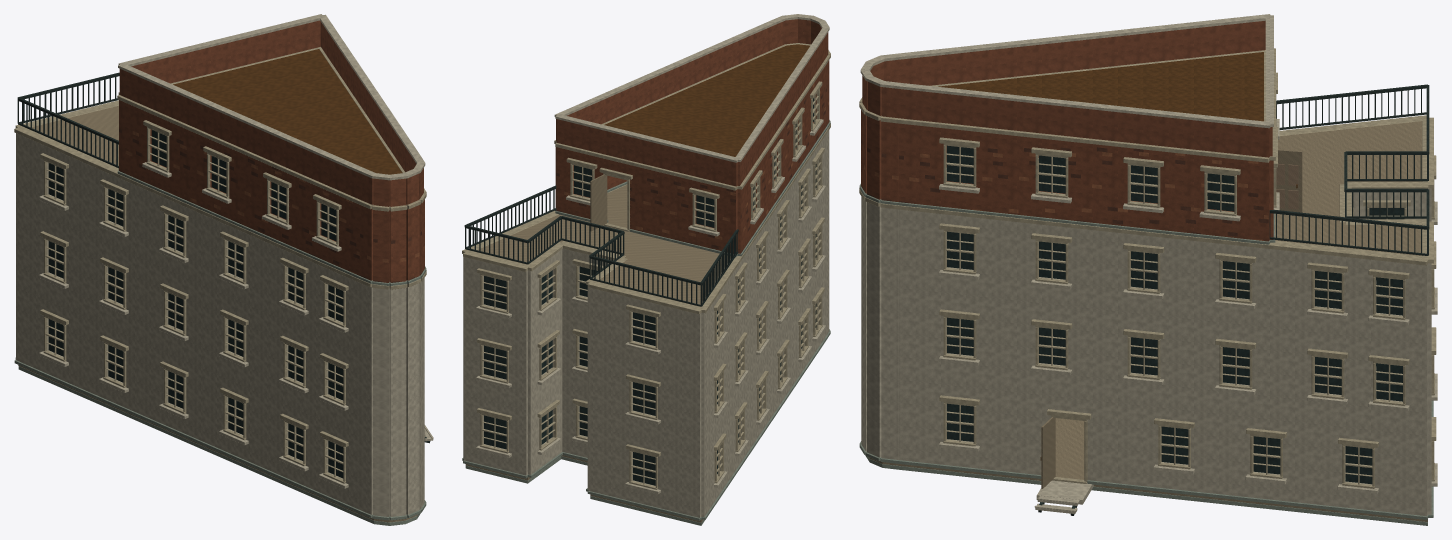
The picture shows the model from 3 angles, left to right: view 1: azimuth 30°, elevation 25°; view 2: azimuth 150°, elevation 25°; view 3: azimuth 270°, elevation 25°; orthographic projection. The views are drawn at different scales.
Parts seen in each view (by area): view 1: A010-17_01_Wall_Shell, A010-17_02_Masonry_Facing, A010-17_04_Architectural_Trim, A010-17_14_Parapets, A010-17_03_Window_Door_Frames, A010-17_11_Roof_Rounded_Wedge_Flat, A010-17_06_Glazing, A010-17_14_Parapet_Caps, A010-17_09_Railings, A010-17_11_Roof_Broad_End_Terrace, A010-17_00_Foundation, A010-17_07_Floors; view 2: A010-17_01_Wall_Shell, A010-17_04_Architectural_Trim, A010-17_03_Window_Door_Frames, A010-17_14_Parapets, A010-17_02_Masonry_Facing, A010-17_11_Roof_Rounded_Wedge_Flat, A010-17_11_Roof_Broad_End_Terrace, A010-17_09_Railings, A010-17_06_Glazing, A010-17_14_Parapet_Caps, A010-17_07_Floors, A010-17_00_Foundation (+1 smaller); view 3: A010-17_01_Wall_Shell, A010-17_04_Architectural_Trim, A010-17_02_Masonry_Facing, A010-17_14_Parapets, A010-17_06_Glazing, A010-17_03_Window_Door_Frames, A010-17_11_Roof_Rounded_Wedge_Flat, A010-17_11_Roof_Broad_End_Terrace, A010-17_09_Railings, A010-17_14_Parapet_Caps, A010-17_07_Floors, A010-17_00_Foundation (+2 smaller).
Boxes of the visible parts, bbox=[...] form: A010-17_01_Wall_Shell: bbox=[16, 101, 424, 516]; A010-17_02_Masonry_Facing: bbox=[119, 100, 424, 282]; A010-17_04_Architectural_Trim: bbox=[14, 47, 426, 520]; A010-17_14_Parapets: bbox=[119, 20, 423, 206]; A010-17_03_Window_Door_Frames: bbox=[43, 126, 345, 483]; A010-17_11_Roof_Rounded_Wedge_Flat: bbox=[173, 49, 402, 174]; A010-17_06_Glazing: bbox=[48, 130, 343, 478]; A010-17_14_Parapet_Caps: bbox=[118, 14, 425, 180]; A010-17_09_Railings: bbox=[17, 72, 119, 168]; A010-17_11_Roof_Broad_End_Terrace: bbox=[32, 105, 118, 165]; A010-17_00_Foundation: bbox=[18, 366, 421, 525]; A010-17_07_Floors: bbox=[18, 365, 417, 522]; A010-17_01_Wall_Shell: bbox=[463, 61, 829, 517]; A010-17_04_Architectural_Trim: bbox=[462, 43, 830, 520]; A010-17_03_Window_Door_Frames: bbox=[480, 89, 822, 489]; A010-17_14_Parapets: bbox=[556, 19, 828, 186]; A010-17_02_Masonry_Facing: bbox=[556, 61, 829, 253]; A010-17_11_Roof_Rounded_Wedge_Flat: bbox=[604, 44, 809, 156]; A010-17_11_Roof_Broad_End_Terrace: bbox=[474, 214, 730, 306]; A010-17_09_Railings: bbox=[464, 185, 738, 306]; A010-17_06_Glazing: bbox=[484, 98, 816, 485]; A010-17_14_Parapet_Caps: bbox=[554, 14, 829, 162]; A010-17_07_Floors: bbox=[465, 185, 702, 522]; A010-17_00_Foundation: bbox=[465, 456, 704, 525]; A010-17_01_Wall_Shell: bbox=[861, 112, 1431, 516]; A010-17_04_Architectural_Trim: bbox=[859, 48, 1437, 519]; A010-17_02_Masonry_Facing: bbox=[861, 110, 1268, 241]; A010-17_14_Parapets: bbox=[862, 20, 1272, 157]; A010-17_06_Glazing: bbox=[947, 145, 1404, 484]; A010-17_03_Window_Door_Frames: bbox=[943, 94, 1434, 488]; A010-17_11_Roof_Rounded_Wedge_Flat: bbox=[938, 52, 1263, 121]; A010-17_11_Roof_Broad_End_Terrace: bbox=[1275, 121, 1421, 255]; A010-17_09_Railings: bbox=[1207, 84, 1429, 363]; A010-17_14_Parapet_Caps: bbox=[860, 14, 1273, 128]; A010-17_07_Floors: bbox=[869, 162, 1427, 521]; A010-17_00_Foundation: bbox=[865, 455, 1427, 525].
Size of the model in its own units: 10.97 by 13.51 by 18.29.
Materials: 11 (11 with a texture image).
